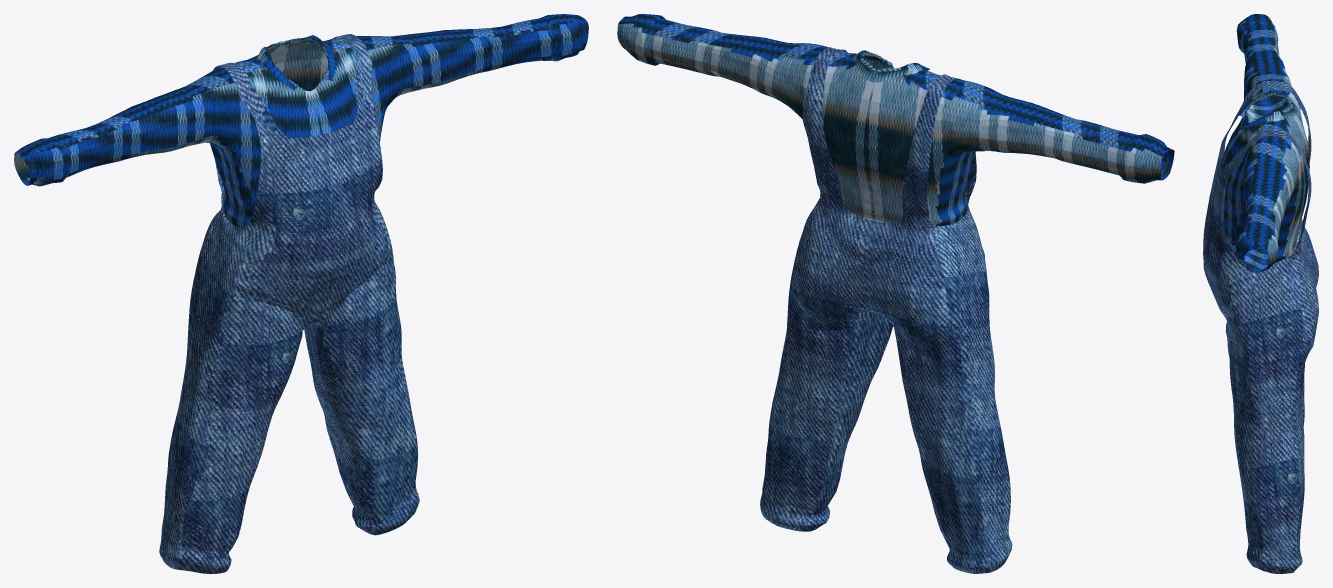
File: Shirt01U.fbx
3 renders of one model, left to right at view 1: azimuth 30°, elevation 25°; view 2: azimuth 150°, elevation 25°; view 3: azimuth 270°, elevation 25°, orthographic. The views are drawn at different scales.
Visible parts, largest first — view 1: Touser, Shirt; view 2: Touser, Shirt; view 3: Touser, Shirt.
Part boxes in pixels (x1,y1,x2,y2): Touser: (159,34,419,573); Shirt: (14,14,588,227); Touser: (760,47,1012,573); Shirt: (617,14,1174,225); Touser: (1203,80,1318,573); Shirt: (1220,14,1309,272).
Size of the model in its own units: 191 by 163 by 39.8.
Materials: 2 (2 with a texture image).
